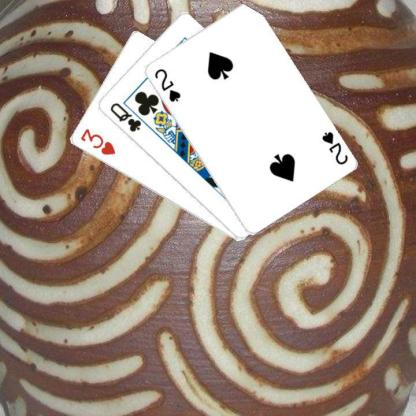2S: (151, 66, 182, 103), (318, 129, 349, 166)
3H: (77, 126, 117, 157)
QC: (107, 100, 143, 133)
